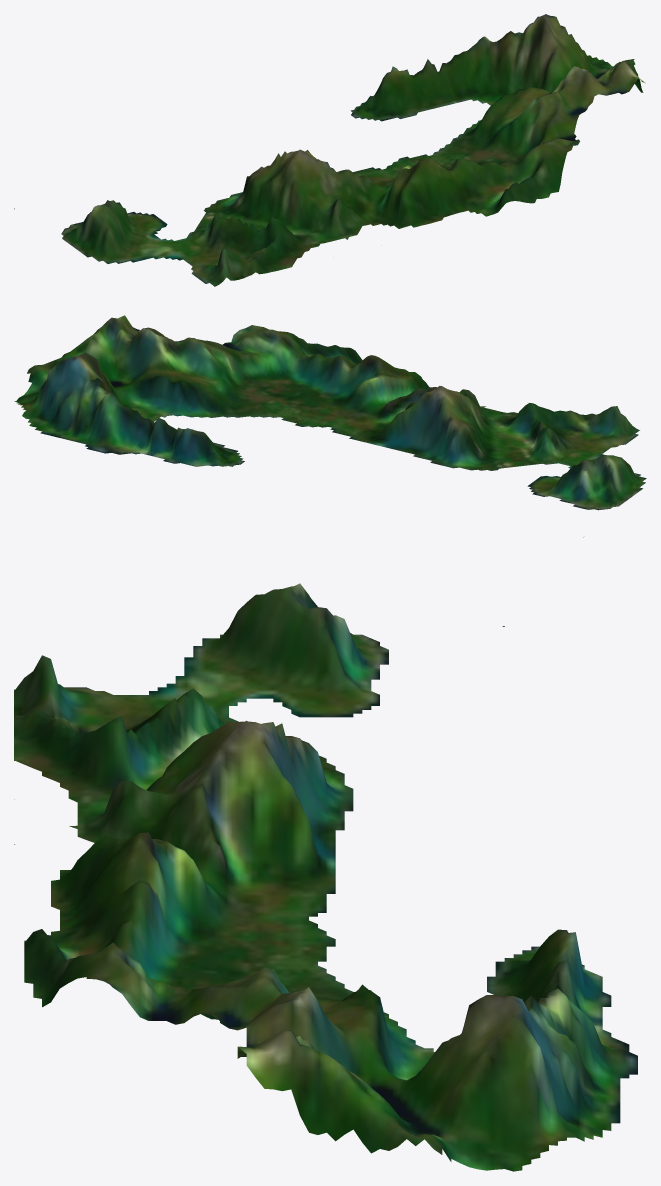
File: StorvikaElevation.glb
The picture shows the model from 3 angles, top to bottom: view 1: azimuth 30°, elevation 25°; view 2: azimuth 150°, elevation 25°; view 3: azimuth 270°, elevation 25°; orthographic projection. The views are drawn at different scales.
Visible parts, largest first — view 1: 3d_map_comp; view 2: 3d_map_comp; view 3: 3d_map_comp.
Part boxes in pixels (<box>): 3d_map_comp: <box>14,14,645,286</box>; 3d_map_comp: <box>14,315,646,537</box>; 3d_map_comp: <box>14,583,637,1171</box>.
Bounding box in the file's own units: 10156 × 1003 × 4906.
1 material, 1 textured.
